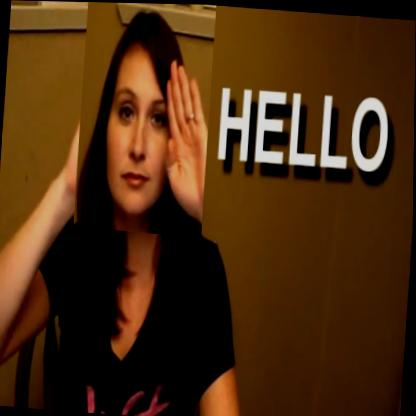Hello: (73, 1, 216, 235)
